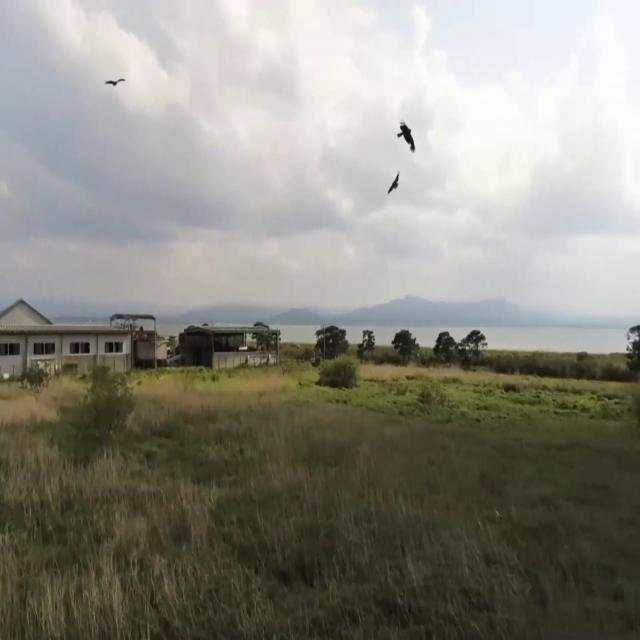bird: (396, 108, 416, 166), (103, 65, 127, 104), (386, 163, 401, 206)
